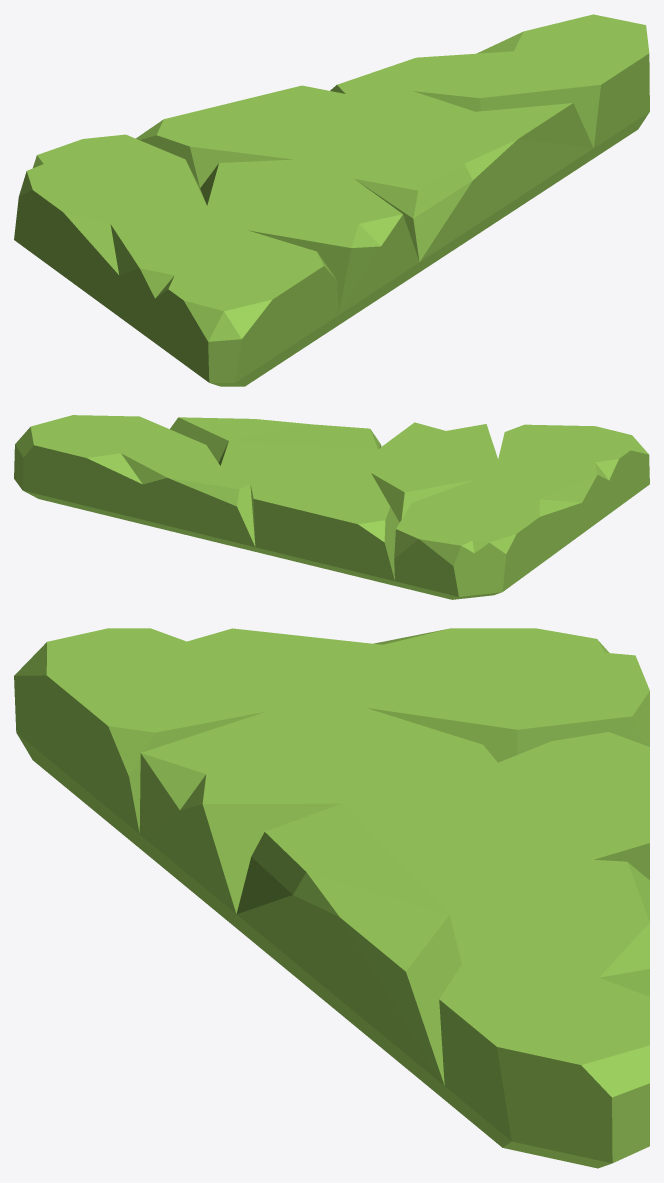
File: mesh_ConcreteSlab2_v2.fbx
The picture shows the model from 3 angles, top to bottom: view 1: azimuth 30°, elevation 25°; view 2: azimuth 150°, elevation 25°; view 3: azimuth 270°, elevation 25°; orthographic projection. The views are drawn at different scales.
Visible parts, largest first — view 1: mesh_ConcreteSlab2_v2_0; view 2: mesh_ConcreteSlab2_v2_0; view 3: mesh_ConcreteSlab2_v2_0.
Part boxes in pixels (x1,y1,x2,y2): mesh_ConcreteSlab2_v2_0: [14, 14, 649, 386]; mesh_ConcreteSlab2_v2_0: [14, 415, 649, 599]; mesh_ConcreteSlab2_v2_0: [14, 628, 649, 1168].
Size of the model in its own units: 180 by 20.33 by 109.
